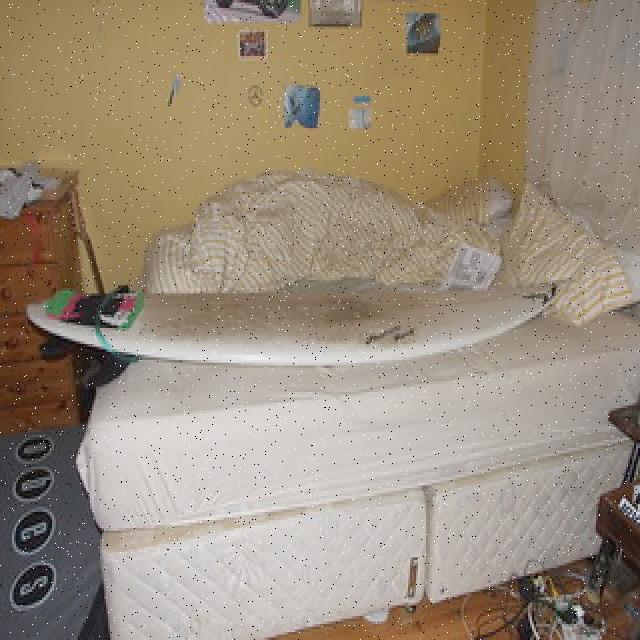bed: (81, 166, 640, 632)
